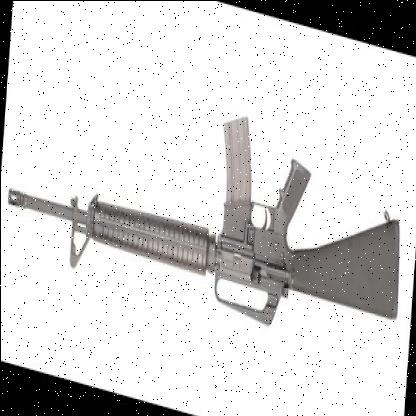rifle: (4, 58, 406, 364)
